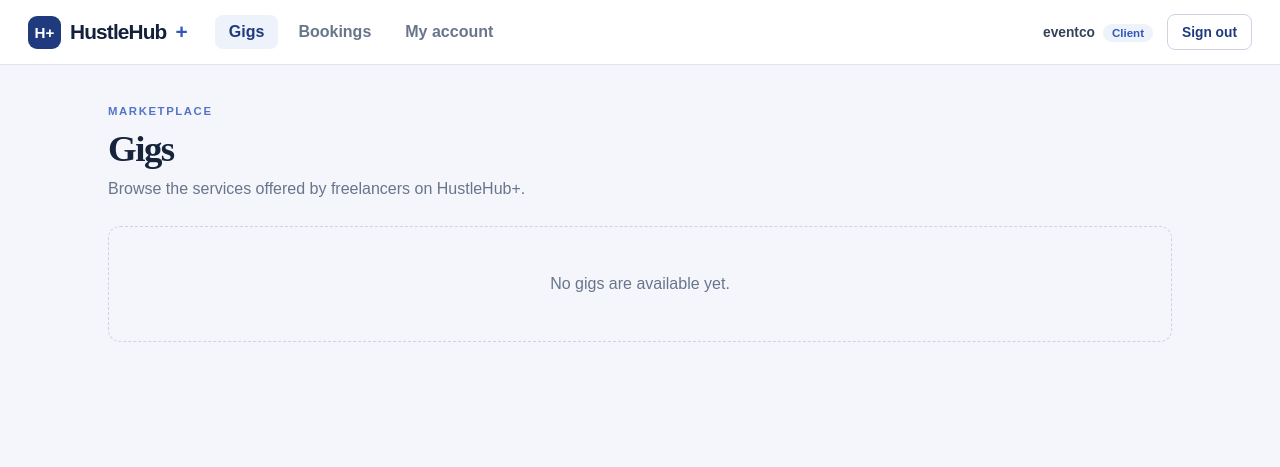
Test: App › opens the bookings page from the navigation
The width and height of the screenshot is (1280, 467).
Expected: the text "No gigs are available yet." is shown, [108,226,1172,342]
Click the button "Bookings" at [335, 32], box [284,15,385,49]
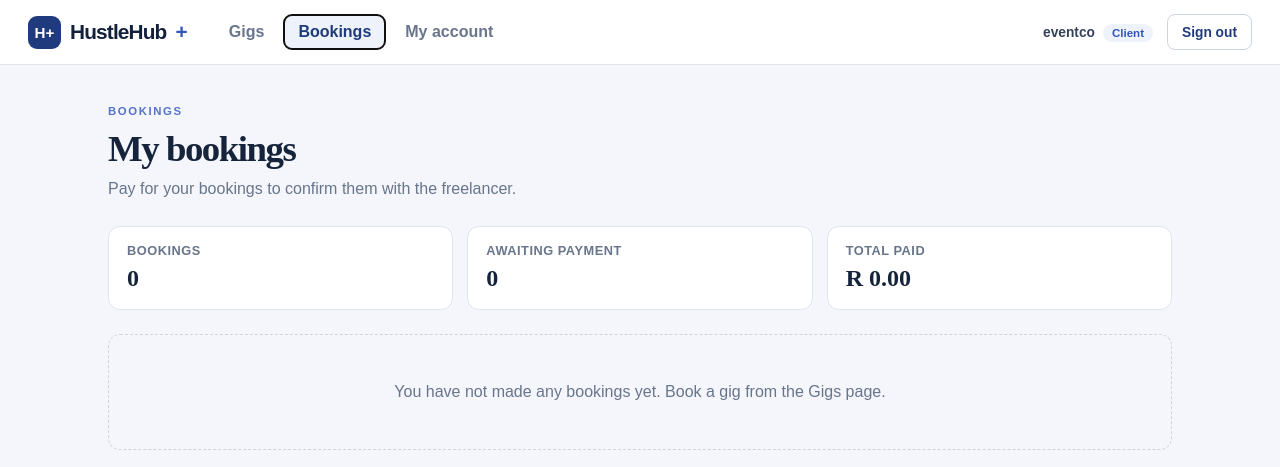
Expected: the heading "My bookings" is shown, [108,128,295,169]
Expected: the text "You have not made any bookings yet. Book a gig from the Gigs page." is shown, [108,334,1172,450]
